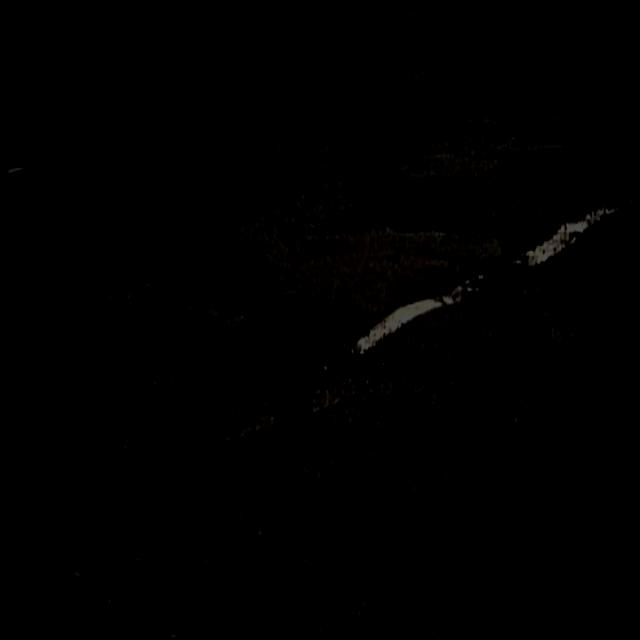Pothole: (59, 293, 444, 640), (245, 150, 640, 314)
